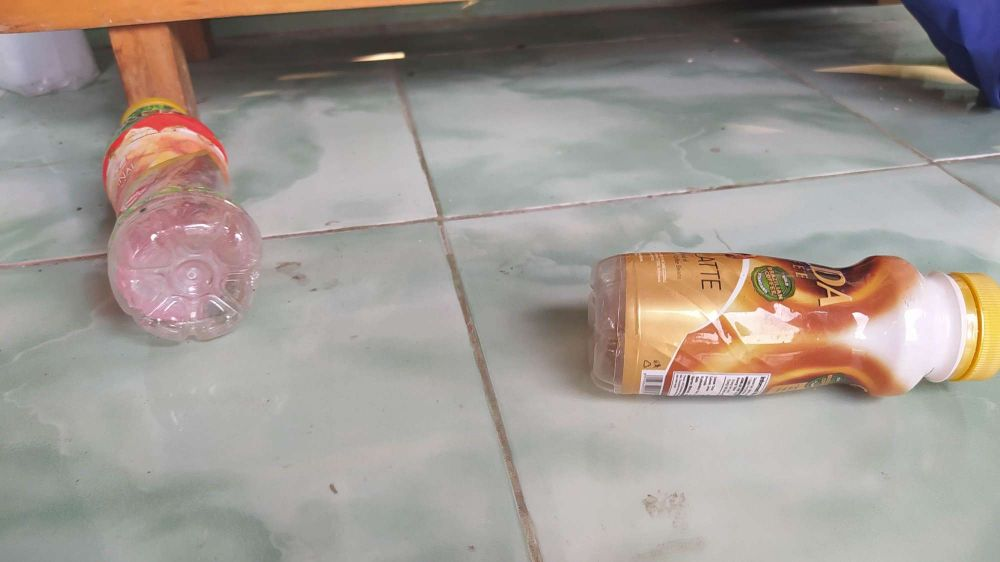botol: (541, 229, 1000, 398), (72, 76, 255, 326)
